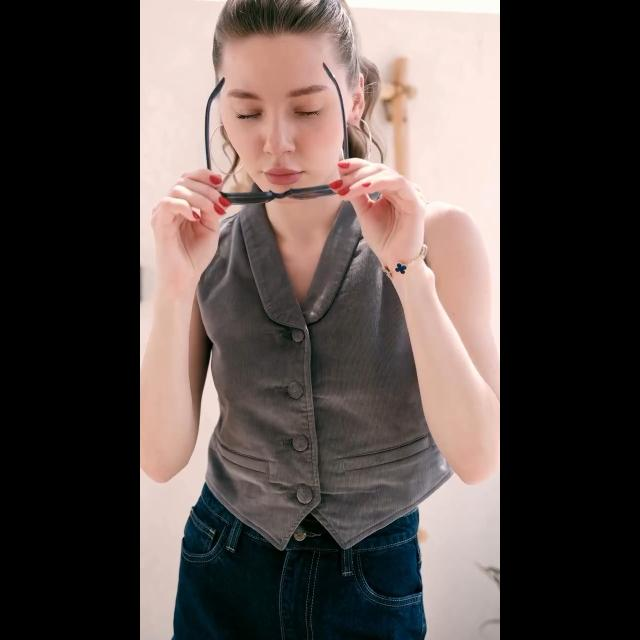bottom: (182, 530, 422, 640)
glasses: (206, 98, 350, 204)
top: (192, 218, 444, 550)
